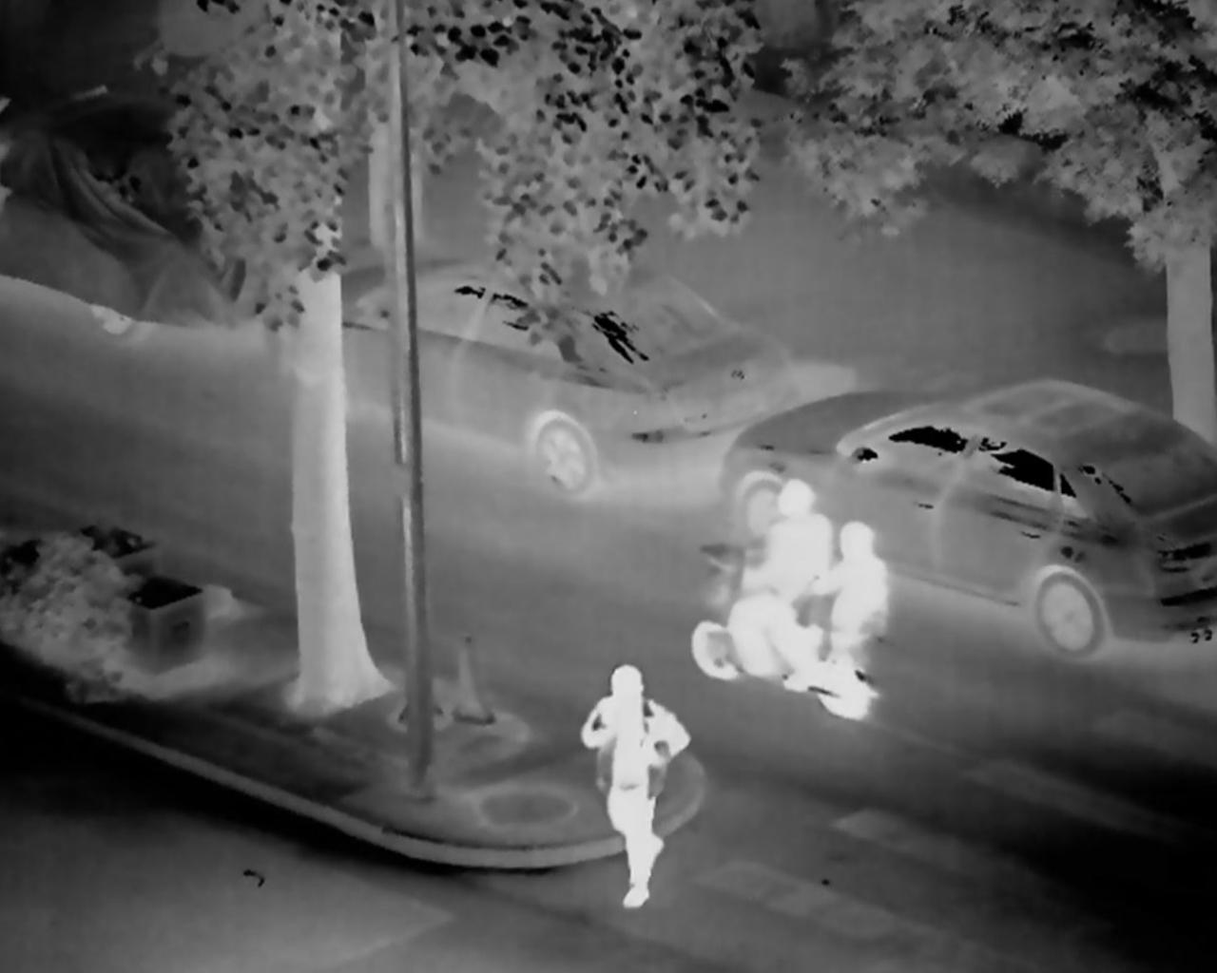person: (572, 658, 705, 933), (724, 479, 830, 676), (784, 522, 888, 695)
